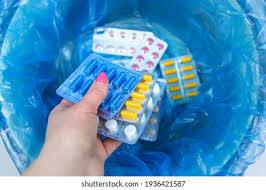pill_Strip: (56, 54, 142, 118), (98, 79, 165, 143), (92, 27, 167, 71), (116, 74, 156, 122), (160, 55, 199, 104), (92, 27, 152, 56), (136, 79, 165, 134), (136, 79, 165, 133), (129, 35, 167, 72), (140, 91, 164, 141), (171, 56, 197, 101), (177, 55, 199, 101), (161, 59, 184, 99), (140, 101, 161, 141), (93, 27, 152, 41), (99, 121, 136, 143), (130, 73, 156, 104), (92, 39, 139, 56), (135, 75, 156, 113), (130, 74, 155, 103), (117, 99, 143, 122), (97, 118, 124, 140), (171, 61, 185, 101), (118, 100, 143, 122), (129, 82, 154, 104), (140, 114, 158, 141), (69, 75, 84, 91), (167, 86, 184, 100), (123, 124, 137, 140), (113, 72, 126, 88), (79, 79, 92, 95), (110, 57, 130, 67), (104, 119, 118, 133), (141, 73, 156, 85), (123, 77, 135, 92), (84, 61, 96, 75), (125, 100, 141, 110), (93, 64, 106, 76), (120, 110, 137, 119), (130, 91, 145, 101), (102, 90, 112, 105), (136, 82, 149, 92), (106, 68, 115, 82), (92, 42, 104, 52), (144, 98, 153, 110), (181, 65, 194, 72), (179, 56, 191, 63), (142, 74, 152, 82), (182, 73, 195, 79), (164, 68, 176, 74), (185, 82, 197, 88), (169, 86, 181, 92), (167, 77, 178, 83), (163, 60, 174, 66), (171, 94, 183, 99), (187, 91, 197, 96), (149, 116, 156, 123), (153, 107, 159, 113), (148, 129, 154, 135), (100, 104, 106, 106)
